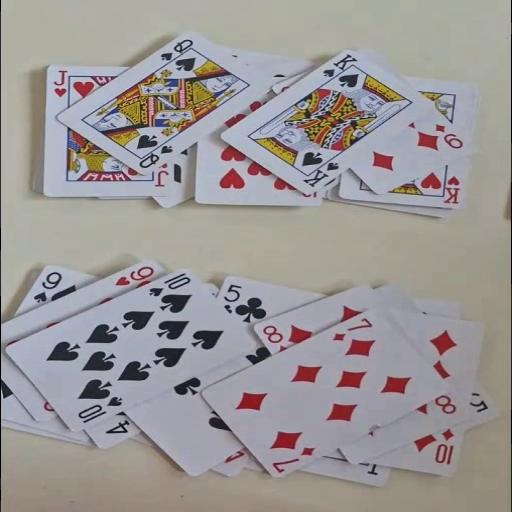10: (75, 394, 124, 424), (146, 270, 192, 297), (432, 428, 456, 465)
5: (220, 282, 244, 314)
7: (269, 444, 317, 474), (328, 316, 375, 342)
9: (30, 269, 64, 303), (111, 264, 155, 286), (432, 122, 465, 150)
J: (50, 68, 68, 98), (152, 164, 170, 188)
K: (299, 159, 341, 188), (319, 51, 359, 78), (440, 173, 462, 205)
Q: (157, 37, 195, 62), (136, 144, 160, 168)
